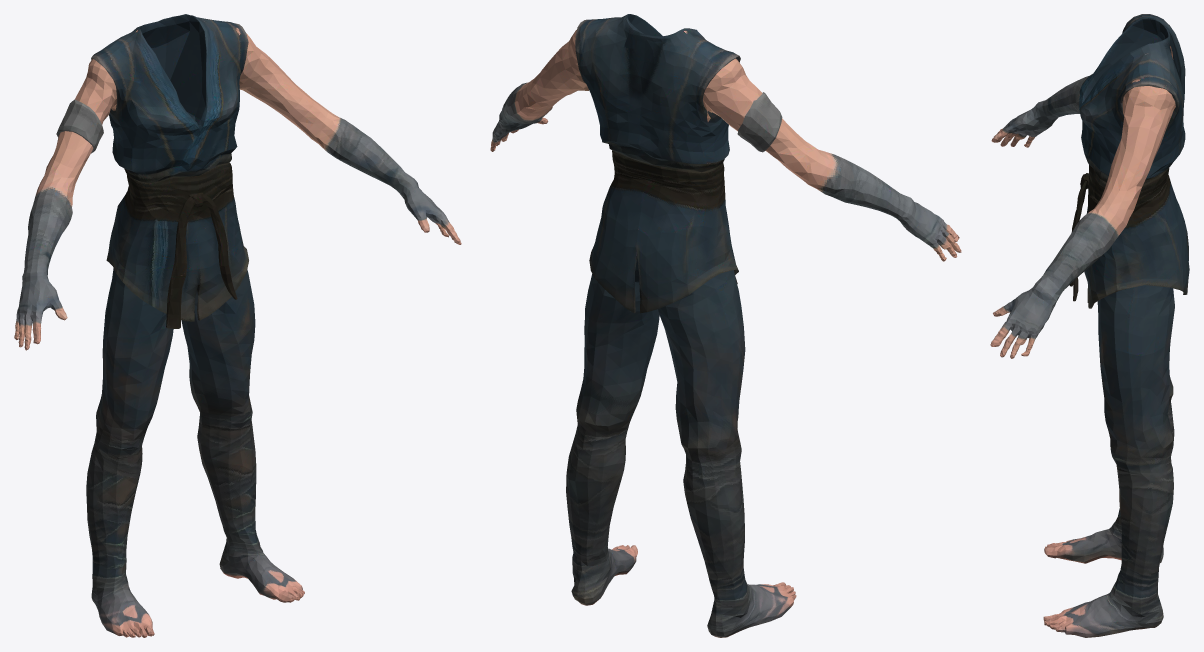
File: ewm_t2kifighter_outfit.glb
3 views of the same model, side by side, from view 1: azimuth 30°, elevation 25°; view 2: azimuth 150°, elevation 25°; view 3: azimuth 270°, elevation 25° (orthographic). The views are drawn at different scales.
Parts seen in each view (by area): view 1: ewm_t2kifighter_outfit; view 2: ewm_t2kifighter_outfit; view 3: ewm_t2kifighter_outfit.
Boxes of the visible parts, left/top/right/bottom form: ewm_t2kifighter_outfit: left=14, top=14, right=461, bottom=637; ewm_t2kifighter_outfit: left=490, top=14, right=961, bottom=637; ewm_t2kifighter_outfit: left=990, top=14, right=1189, bottom=637.
Size of the model in its own units: 1.3 by 1.61 by 0.5164.
1 material, 1 textured.
